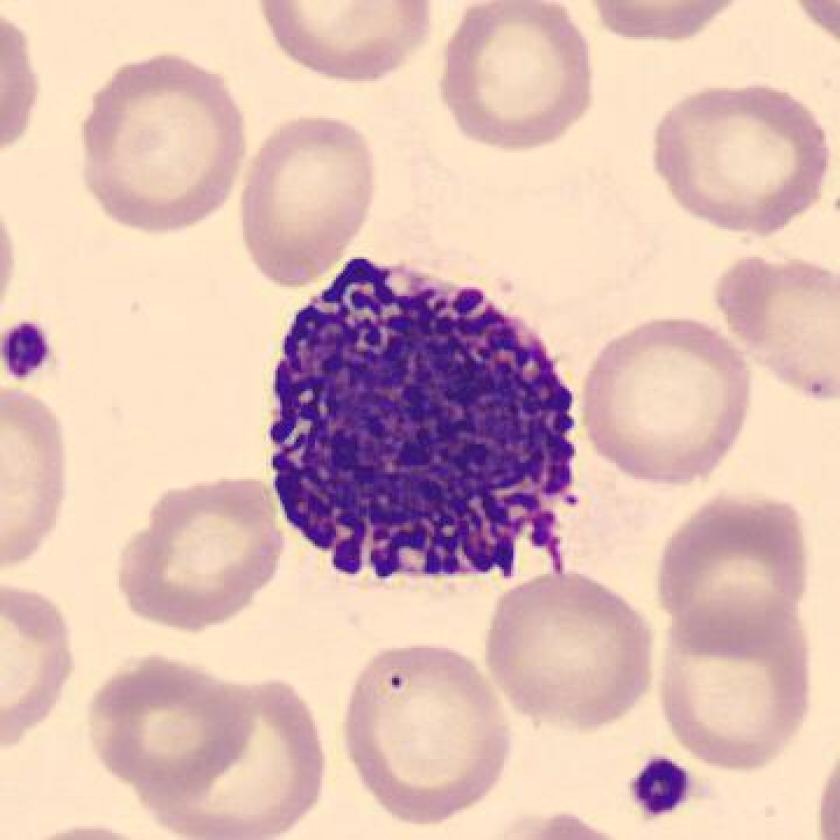basophil: (251, 249, 587, 596)
